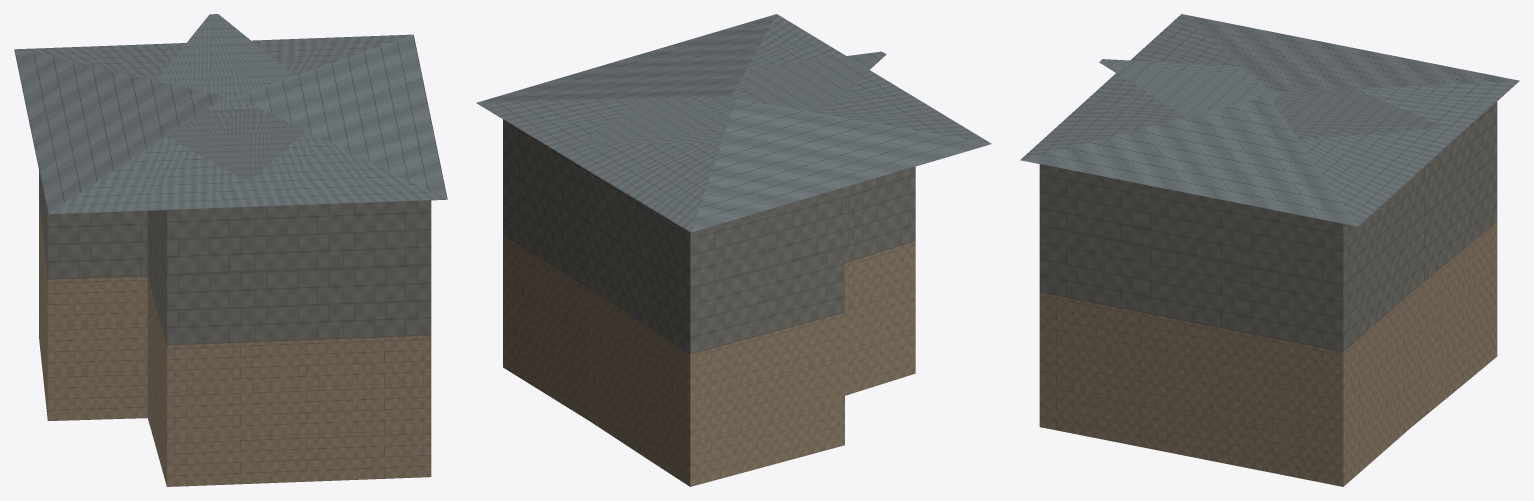
Rendered from bld_c6_35_515.gltf.
3 renders of one model, left to right at view 1: azimuth 30°, elevation 25°; view 2: azimuth 150°, elevation 25°; view 3: azimuth 270°, elevation 25°, orthographic. The views are drawn at different scales.
Visible parts, largest first — view 1: bld_c6_35_515; view 2: bld_c6_35_515; view 3: bld_c6_35_515.
Part boxes in pixels (left/top/right/bottom): bld_c6_35_515: left=14, top=14, right=447, bottom=486; bld_c6_35_515: left=476, top=14, right=991, bottom=486; bld_c6_35_515: left=1020, top=14, right=1519, bottom=486.
Bounding box in the file's own units: 17.27 × 11.2 × 17.13.
3 materials, 3 textured.
